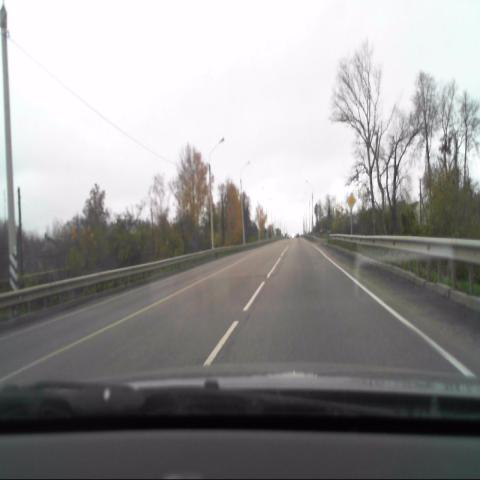2_1: (346, 193, 356, 210)
